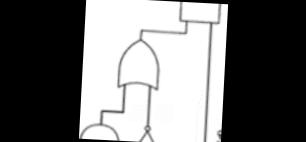and: (176, 2, 224, 25), (78, 118, 122, 140)
not: (124, 120, 169, 142)
or: (114, 34, 164, 92)
